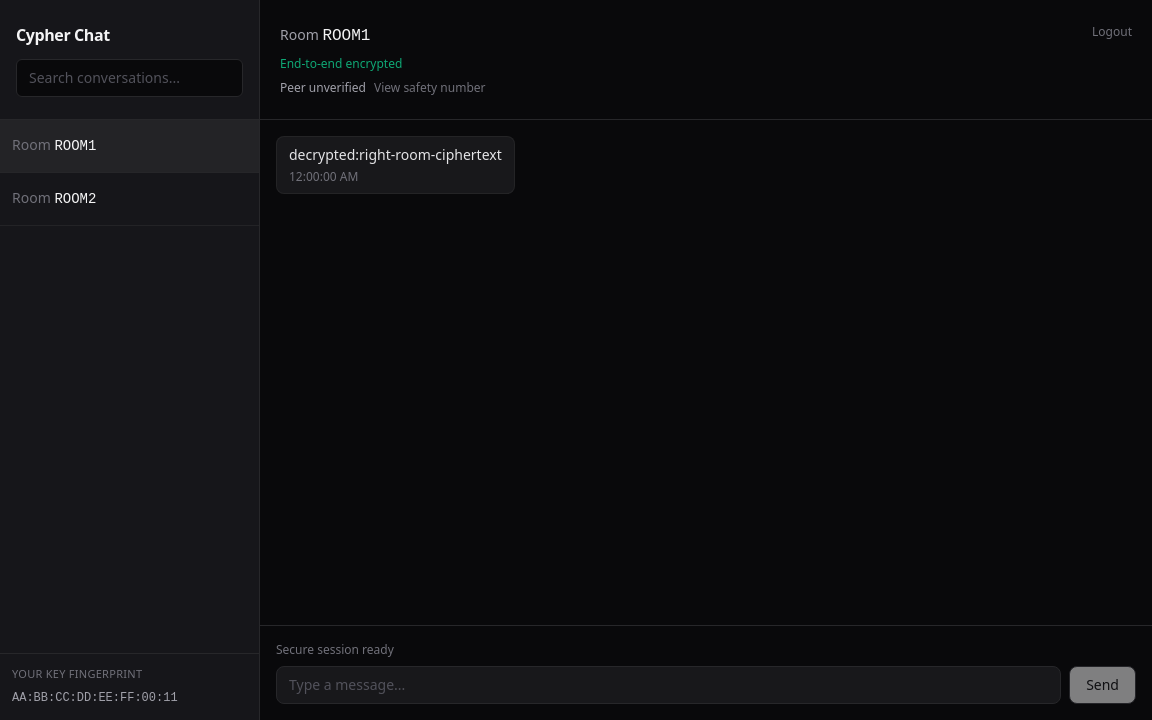
Test: ChatRoom integration › queues wrong-room inbound messages for later decryption
The width and height of the screenshot is (1152, 720).
Expected: the text "decrypted:wrong-room-ciphertext" is not shown
Expected: the text "decrypted:right-room-ciphertext" is shown, top-left (289, 145), bottom-right (502, 165)
Step 1. Click the text "ROOM2" → (75, 198), box top-left (54, 190), bottom-right (96, 206)
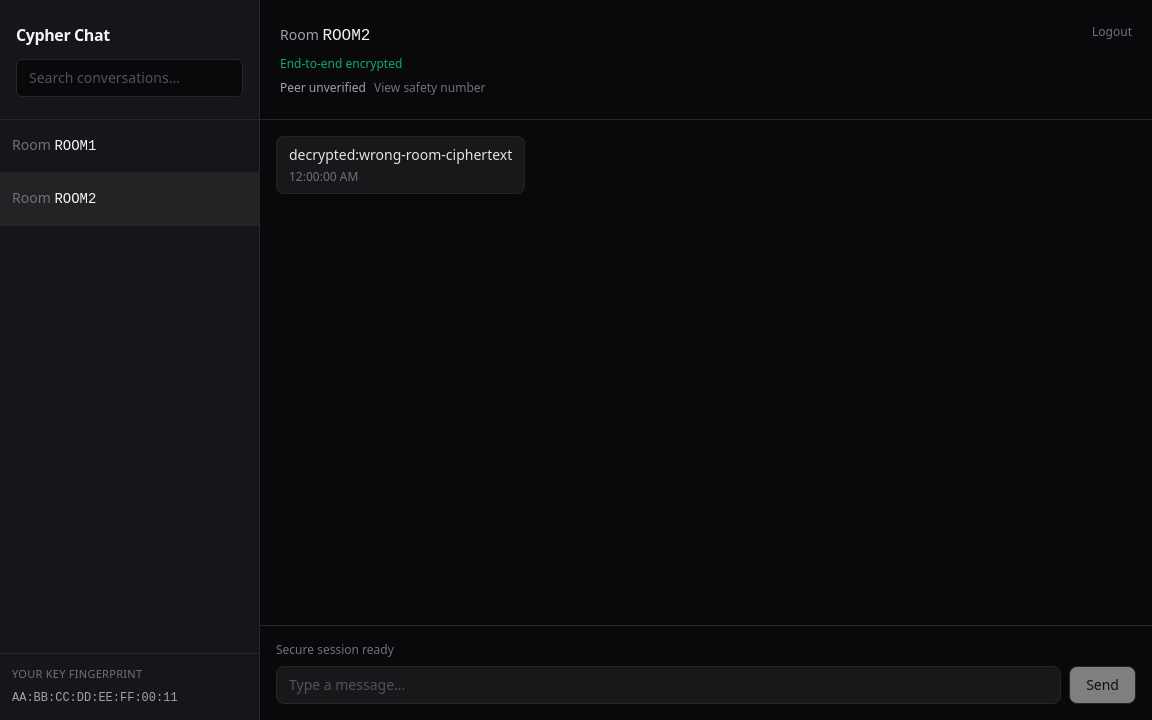
Expected: the text "decrypted:wrong-room-ciphertext" is shown, top-left (289, 145), bottom-right (512, 165)
